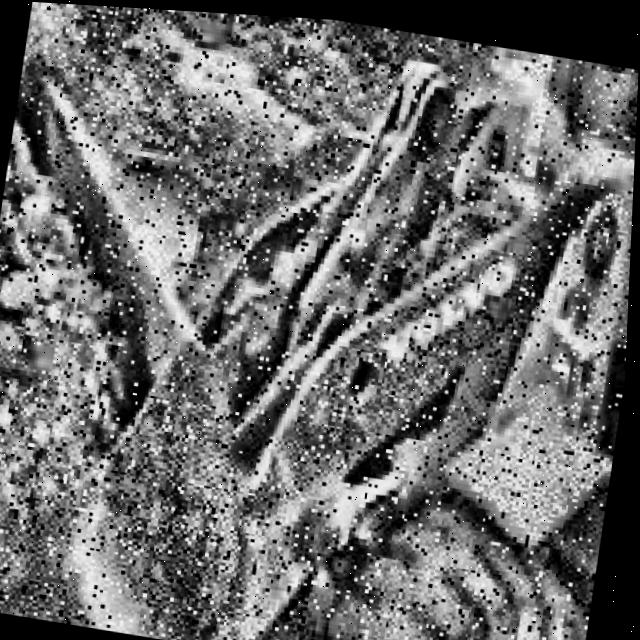buldozerpayloadergrader: (176, 9, 640, 640)
